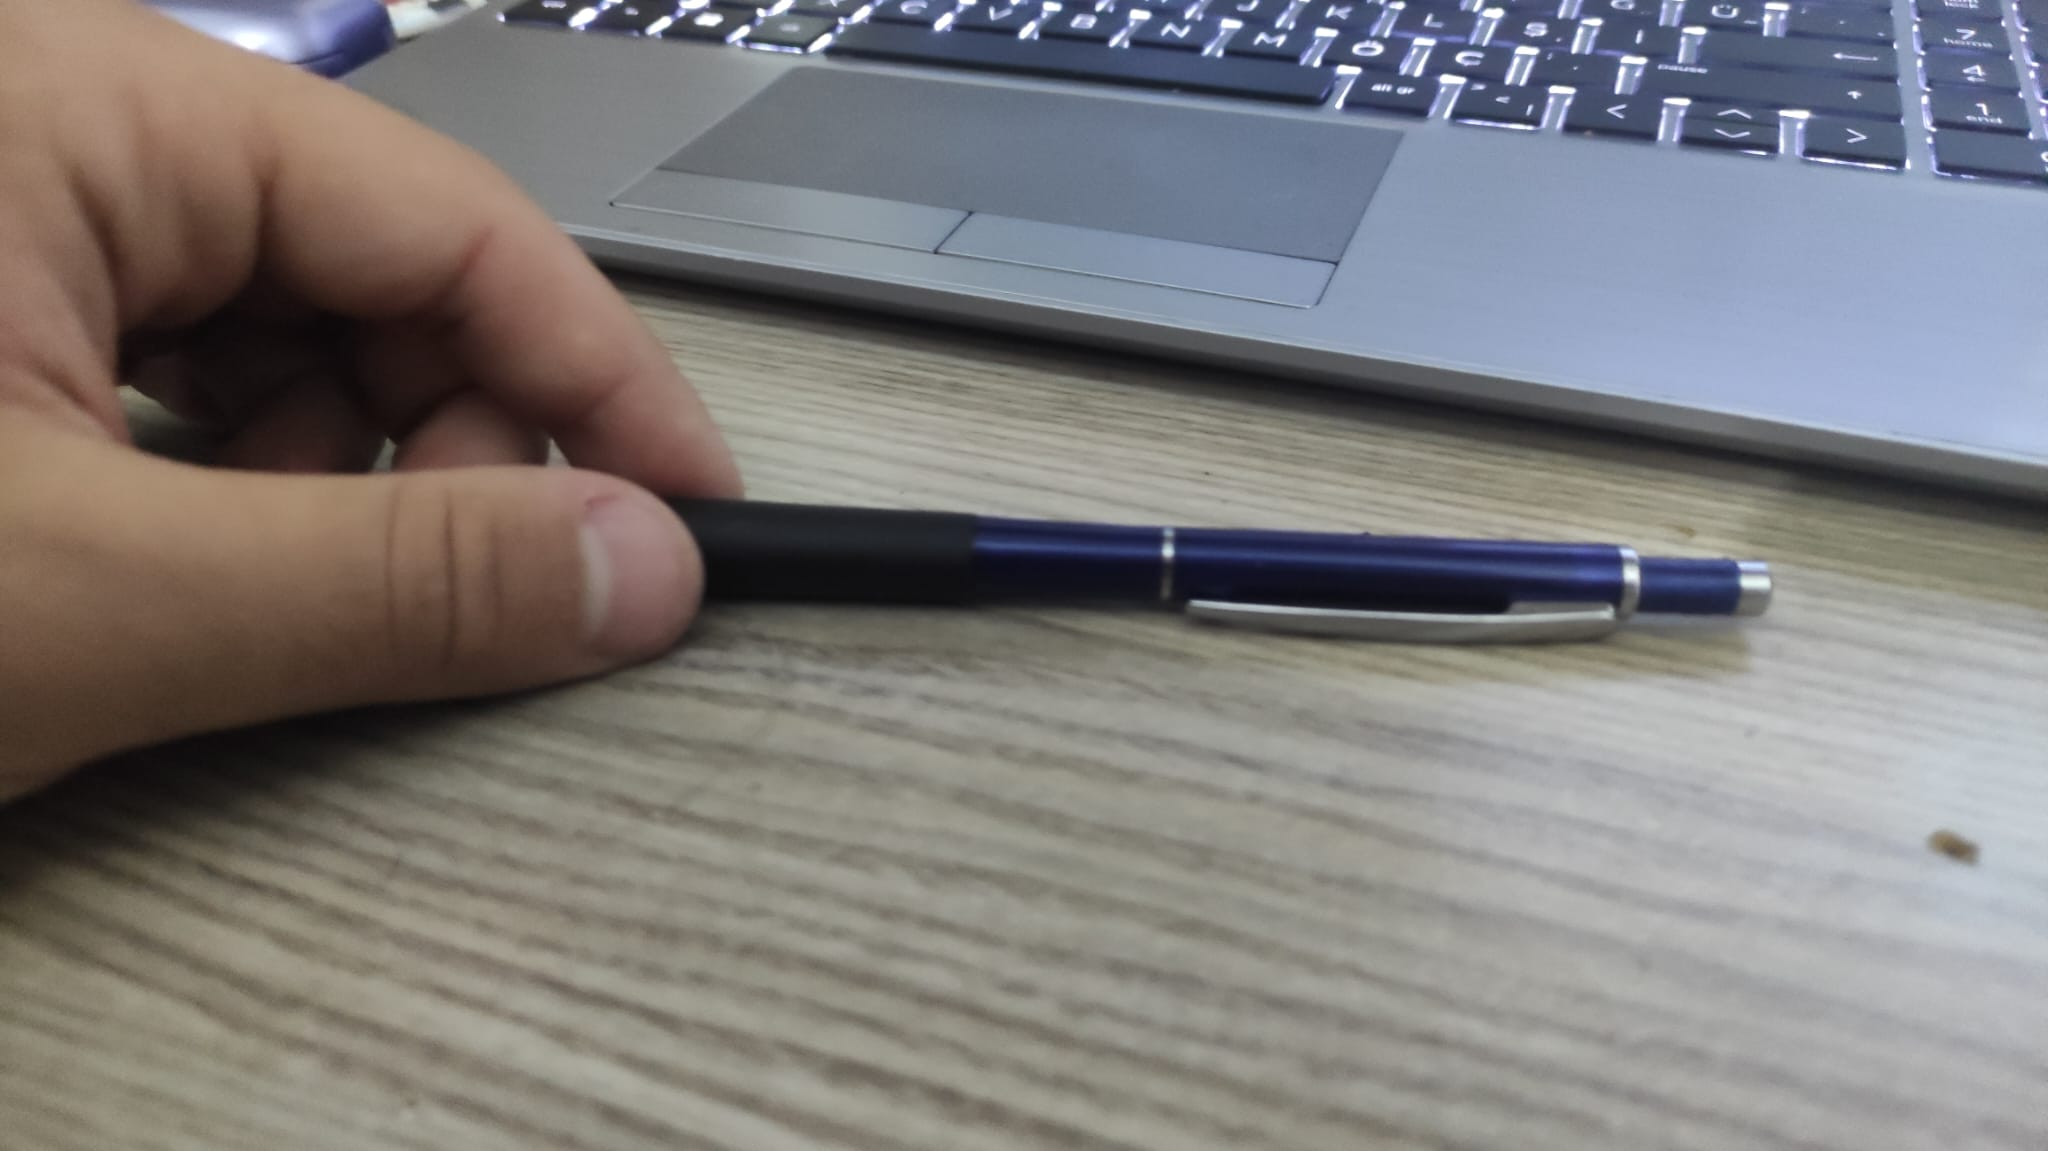kalem: (658, 487, 1779, 639)
